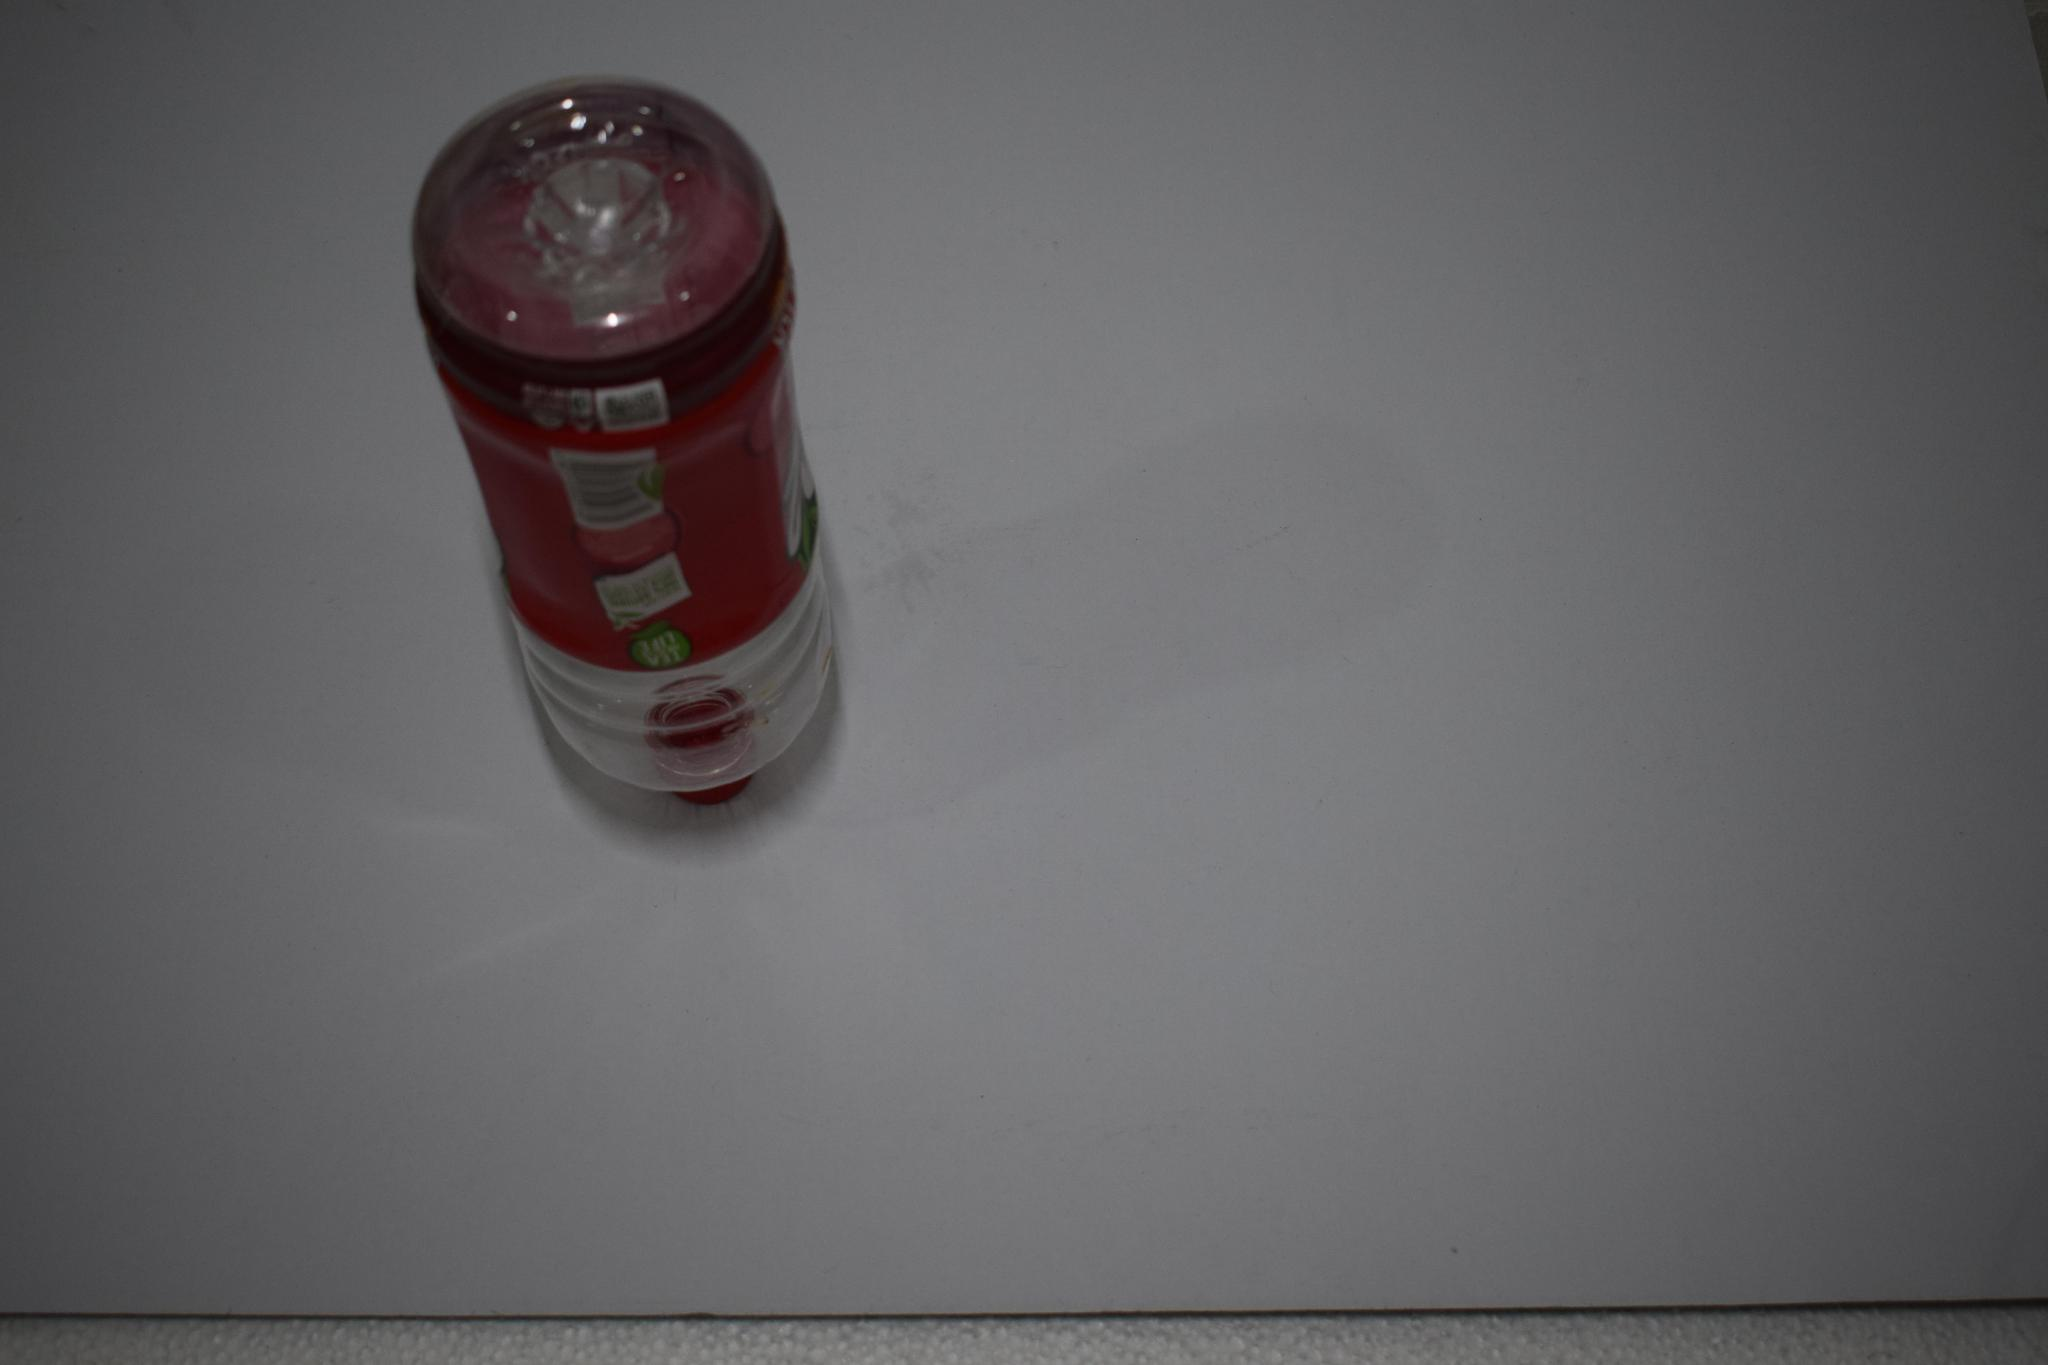bottle: (397, 55, 848, 827)
